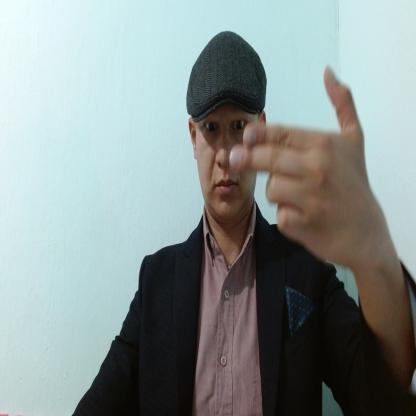H: (228, 67, 366, 266)
